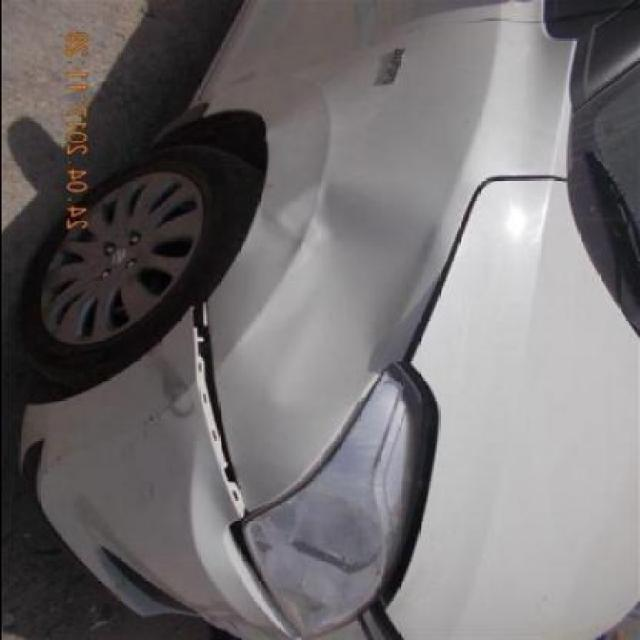damage: (239, 177, 439, 405), (188, 305, 247, 523), (153, 346, 196, 419)
